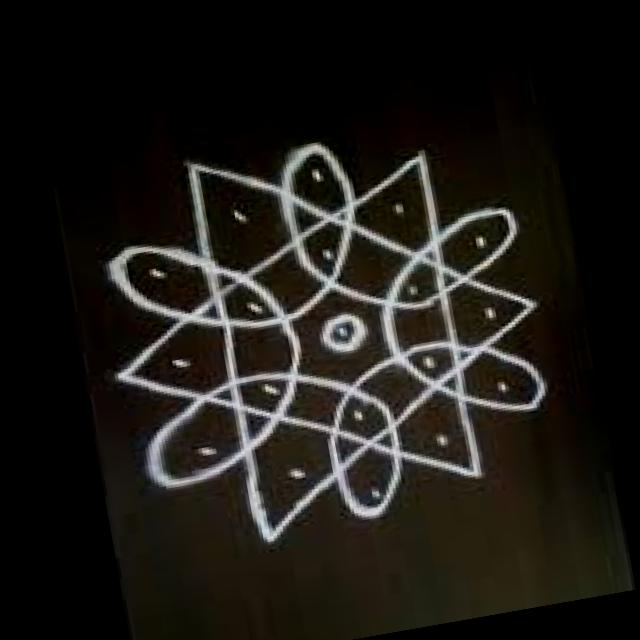rangoli: (61, 92, 592, 584)
